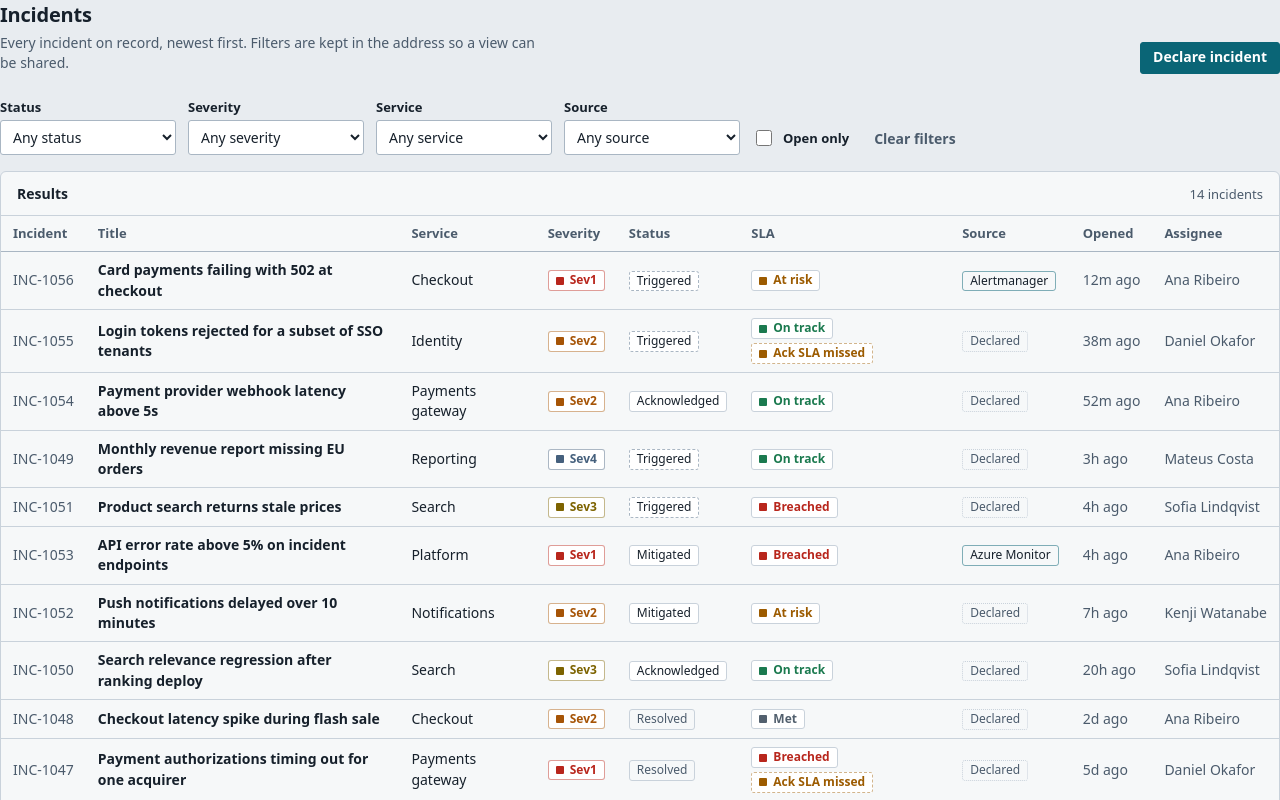
Test: IncidentsPage › filters by severity and keeps the filter in the address
Select "Sev1" in the dropdown labelled "Severity" at [276, 138], box [188,120,364,155]
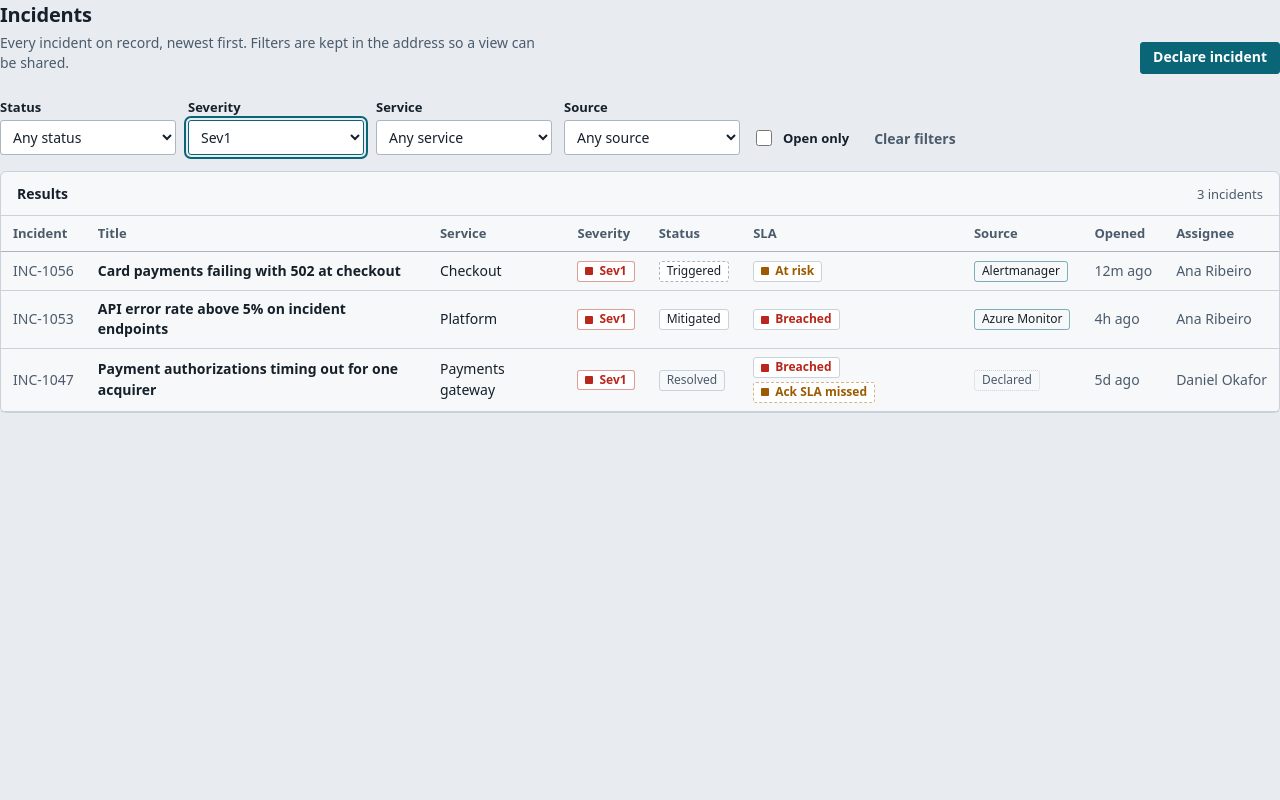
Now the text "3 incidents" is shown, box [1197,184,1263,203]
